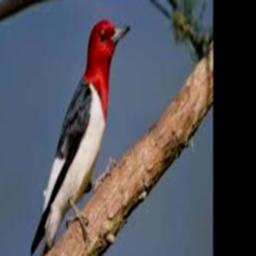Woodpecker: (30, 18, 130, 256)
